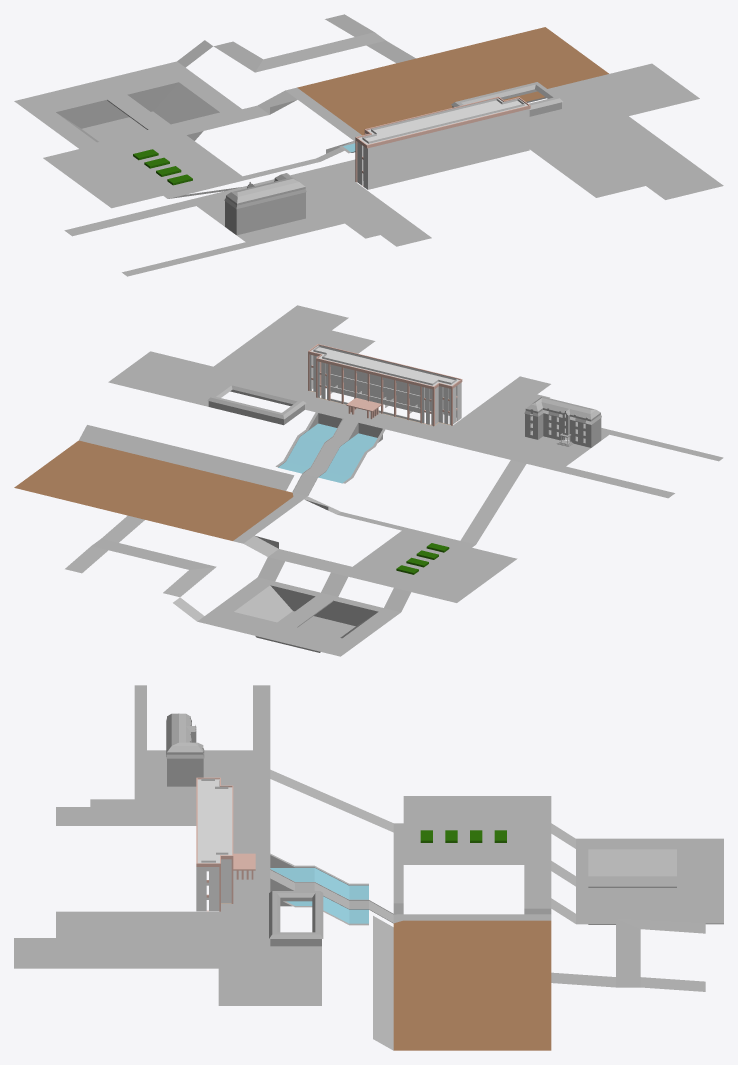
Rendered from map.fbx.
3 views of the same model, one above another, from view 1: azimuth 30°, elevation 25°; view 2: azimuth 150°, elevation 25°; view 3: azimuth 270°, elevation 25° (orthographic). The views are drawn at different scales.
Parts seen in each view (by area): view 1: walkroad, school_walls, director_building; view 2: walkroad, school_walls, director_building; view 3: walkroad, school_walls, director_building.
Part boxes in pixels (bbox=[...]): walkroad: bbox=[14, 14, 723, 276]; school_walls: bbox=[355, 96, 530, 189]; director_building: bbox=[224, 173, 306, 235]; walkroad: bbox=[14, 305, 723, 656]; school_walls: bbox=[308, 344, 462, 426]; director_building: bbox=[524, 396, 601, 447]; walkroad: bbox=[14, 685, 723, 1050]; school_walls: bbox=[196, 777, 255, 911]; director_building: bbox=[166, 713, 204, 786].
Bounding box in the file's own units: 73920 × 15360 × 69120.
